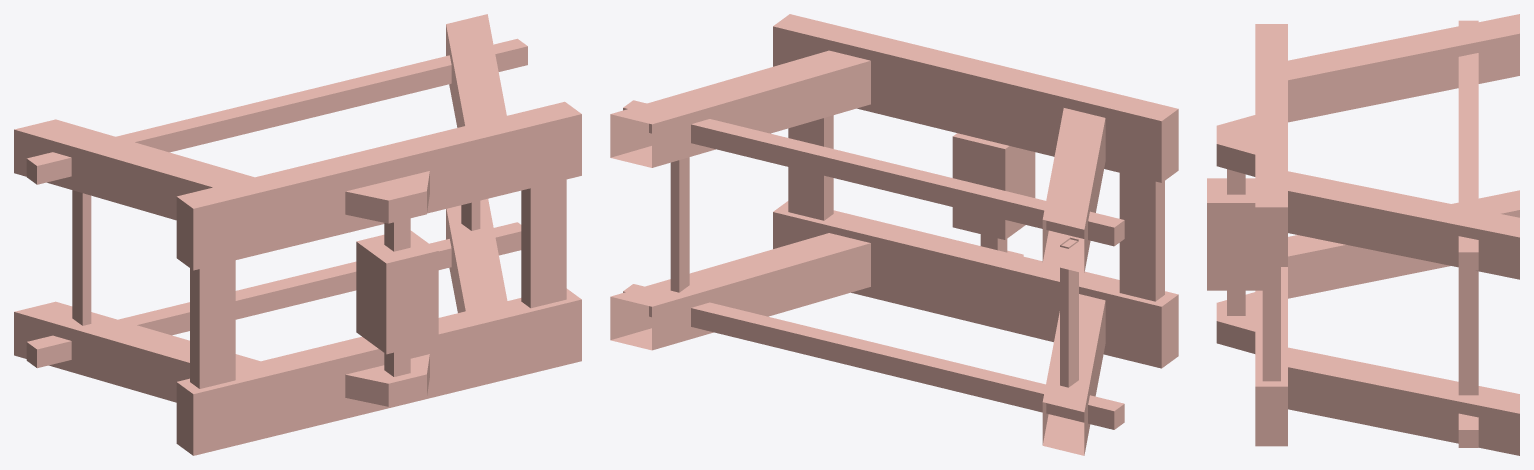
Rendered from Mega_Asset_s_Pack_Cylinder_003.FBX.
The picture shows the model from 3 angles, left to right: view 1: azimuth 30°, elevation 25°; view 2: azimuth 150°, elevation 25°; view 3: azimuth 270°, elevation 25°; orthographic projection. The views are drawn at different scales.
Parts seen in each view (by area): view 1: Mega_Asset_s_Pack_Cylinder_003; view 2: Mega_Asset_s_Pack_Cylinder_003; view 3: Mega_Asset_s_Pack_Cylinder_003.
Boxes of the visible parts, x1,y1,x2,y2 form: Mega_Asset_s_Pack_Cylinder_003: (14, 14, 581, 455); Mega_Asset_s_Pack_Cylinder_003: (610, 14, 1178, 455); Mega_Asset_s_Pack_Cylinder_003: (1207, 14, 1519, 455).
Size of what is drawn, in the model's own units: 292 by 167 by 141.
